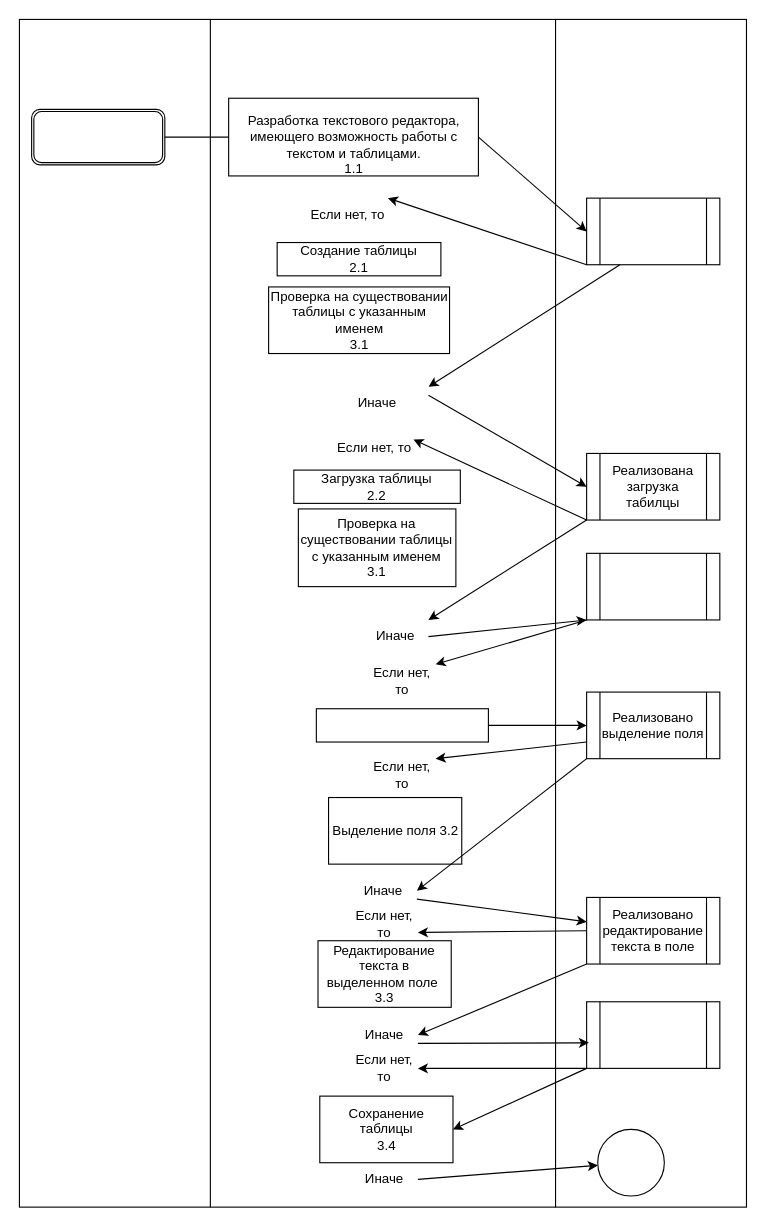
Image size: 766x1227. Some labels were removed from this diagram. Here are the shapes that lost their labels. From the top down, the centre of each, then its label:
point 653,231: Реализовано создание таблицы
point 653,586: Реализована работа с таблицей
point 401,725: Работа с таблицей 2.3
point 653,1034: Реализовано сохранение таблицы
